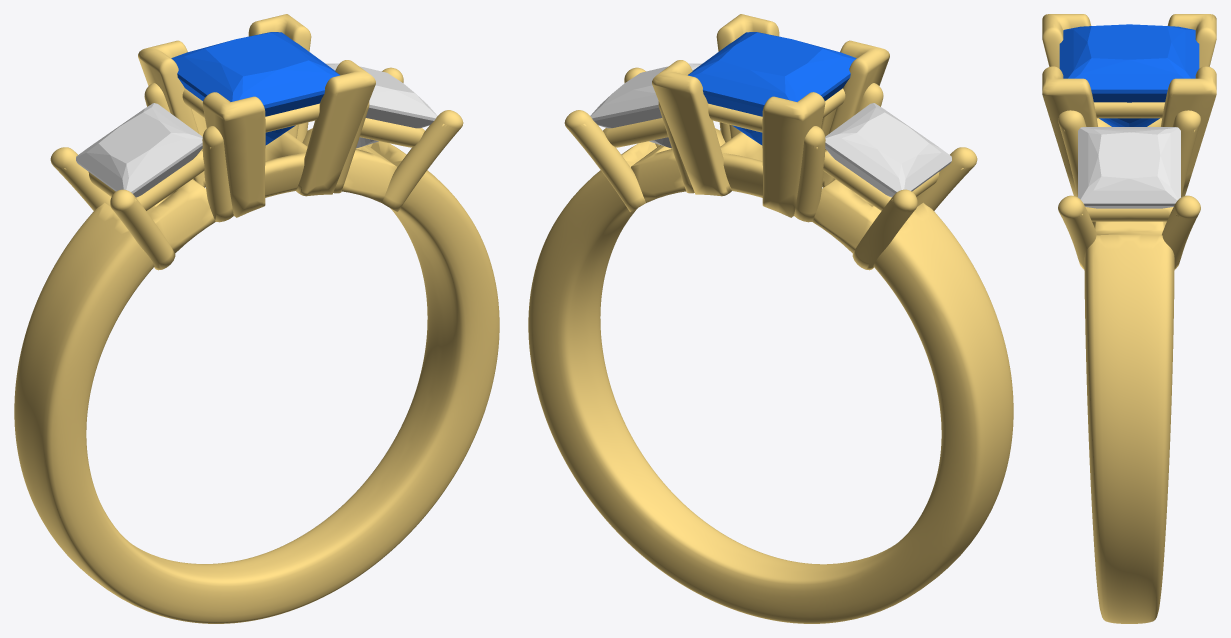
Rendered from bluesapphire-princess-yellowgold-protectededges4prongs-straighttaperedband-3stone.glb.
The picture shows the model from 3 angles, left to right: view 1: azimuth 30°, elevation 25°; view 2: azimuth 150°, elevation 25°; view 3: azimuth 270°, elevation 25°; orthographic projection.
Visible parts, largest first — view 1: metal, stone, side.001, side; view 2: metal, stone, side.001, side; view 3: metal, stone, side.
Boxes of the visible parts, x1,y1,x2,y2 form: metal: [14, 14, 499, 623]; stone: [171, 32, 339, 145]; side.001: [76, 103, 202, 197]; side: [326, 63, 437, 148]; metal: [528, 14, 1013, 623]; stone: [688, 32, 856, 145]; side.001: [825, 103, 951, 197]; side: [590, 63, 701, 148]; metal: [1042, 14, 1216, 623]; stone: [1059, 24, 1199, 126]; side: [1078, 127, 1180, 208].
Bounding box in the file's own units: 20.51 × 23.86 × 6.77.
